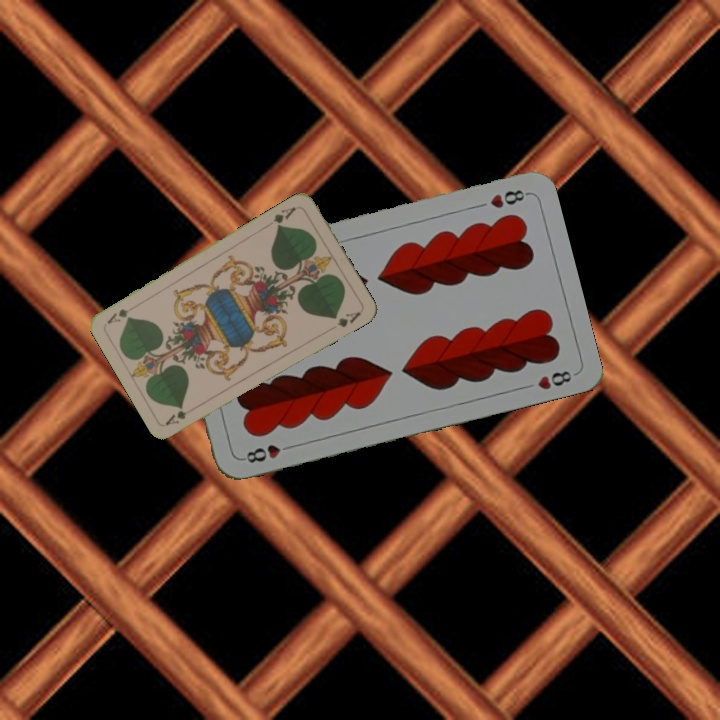GA: (269, 203, 298, 231), (162, 406, 189, 428)
H8: (238, 440, 296, 466), (486, 185, 530, 211)
